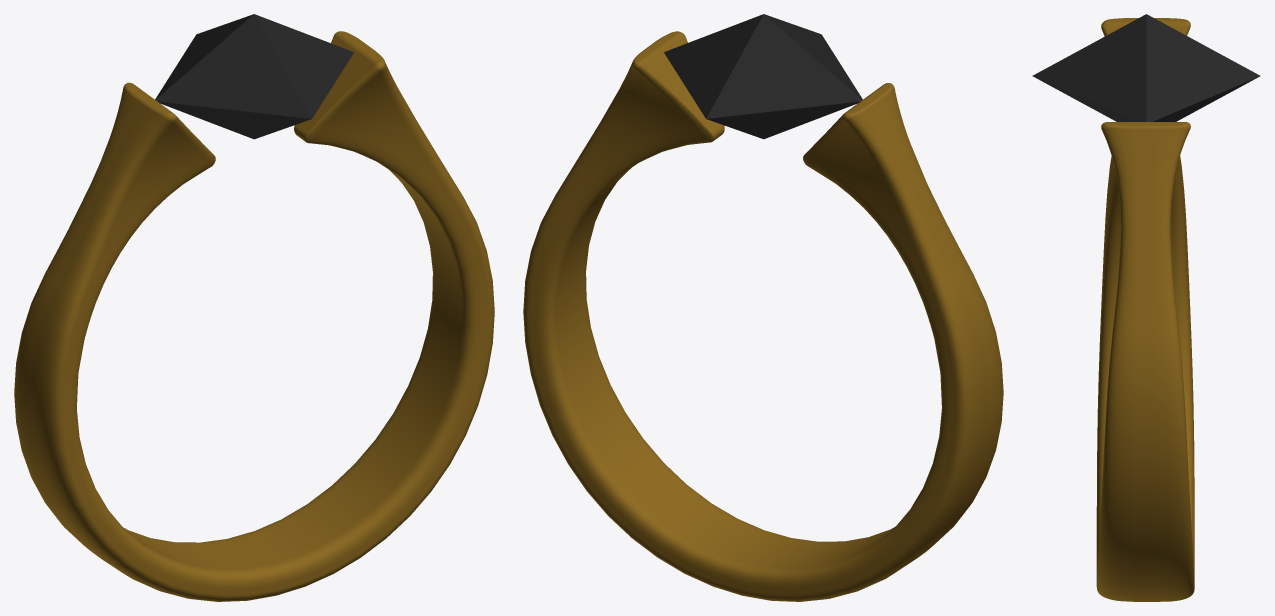
File: ring2.glb
3 views of the same model, side by side, from view 1: azimuth 30°, elevation 25°; view 2: azimuth 150°, elevation 25°; view 3: azimuth 270°, elevation 25° (orthographic).
Visible parts, largest first — view 1: TheRing; view 2: TheRing; view 3: TheRing.
Boxes of the visible parts, bbox=[...] form: TheRing: bbox=[14, 14, 494, 601]; TheRing: bbox=[523, 14, 1003, 601]; TheRing: bbox=[1032, 14, 1260, 601].
Bounding box in the file's own units: 10.53 × 12.71 × 4.67.
